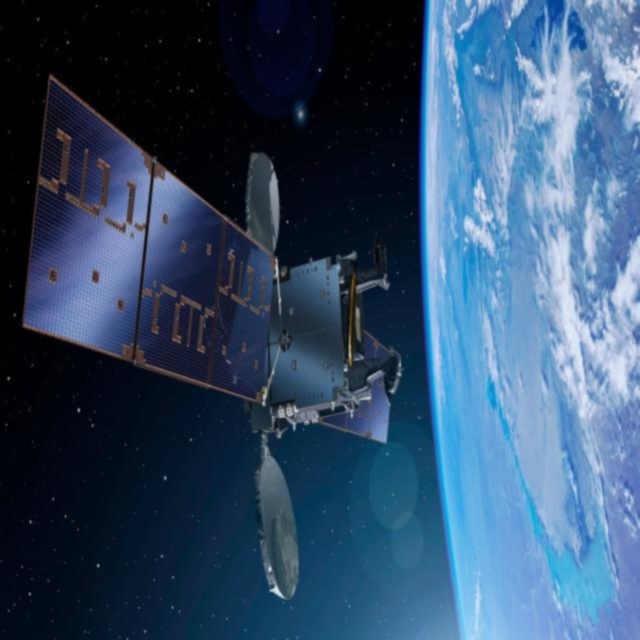satellite: (19, 81, 394, 601)
